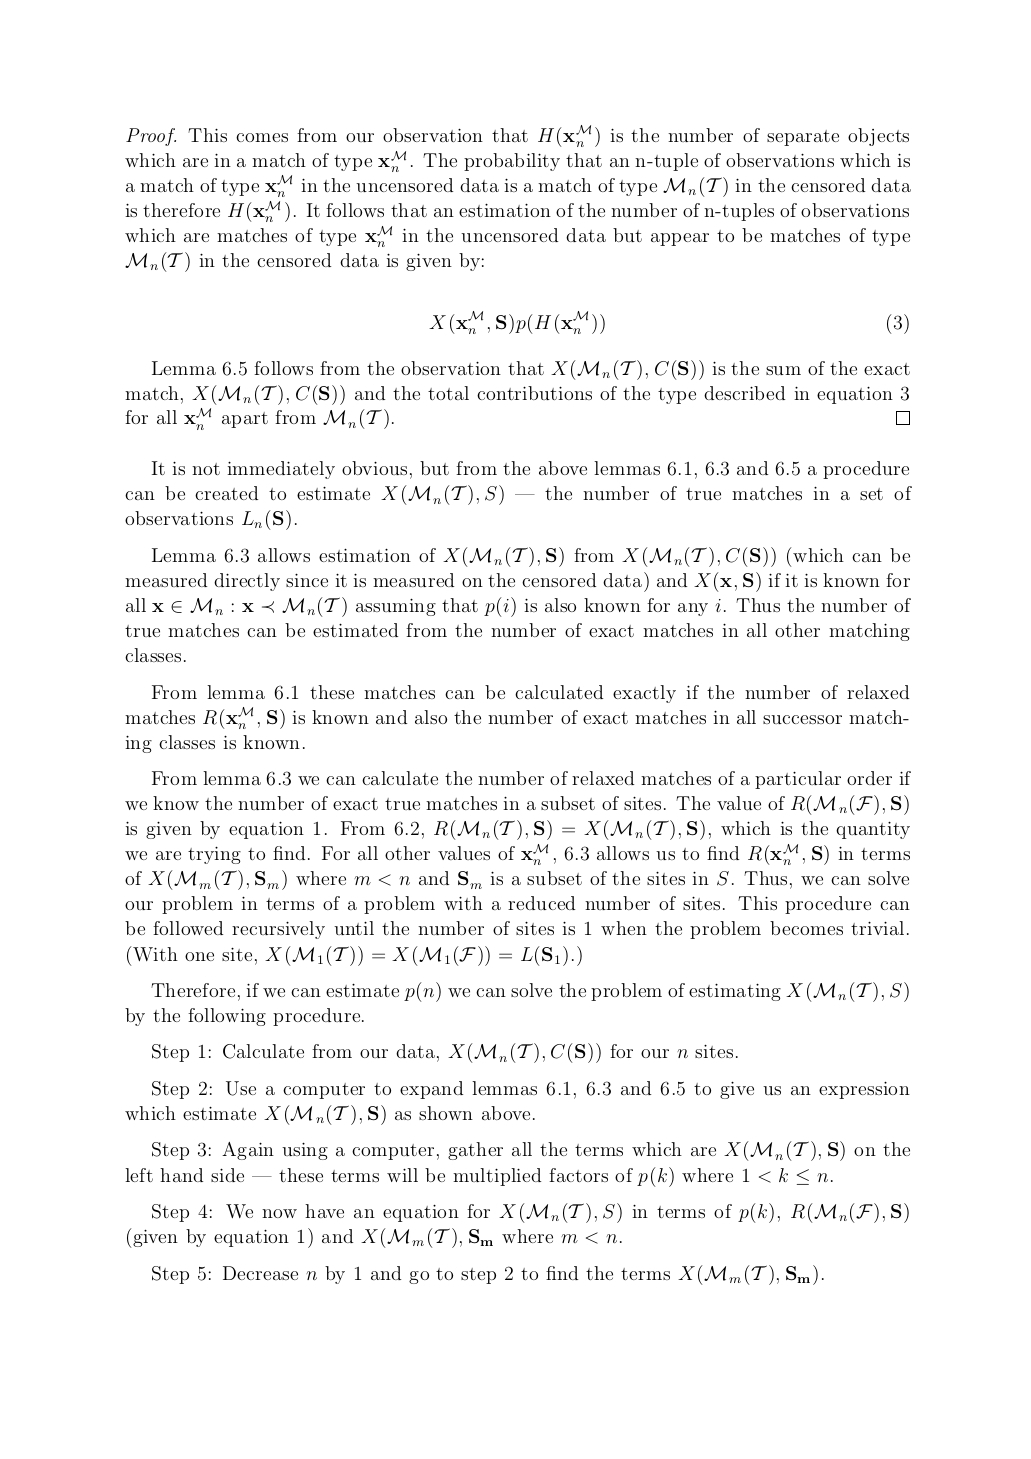formula: (428, 310, 908, 334)
